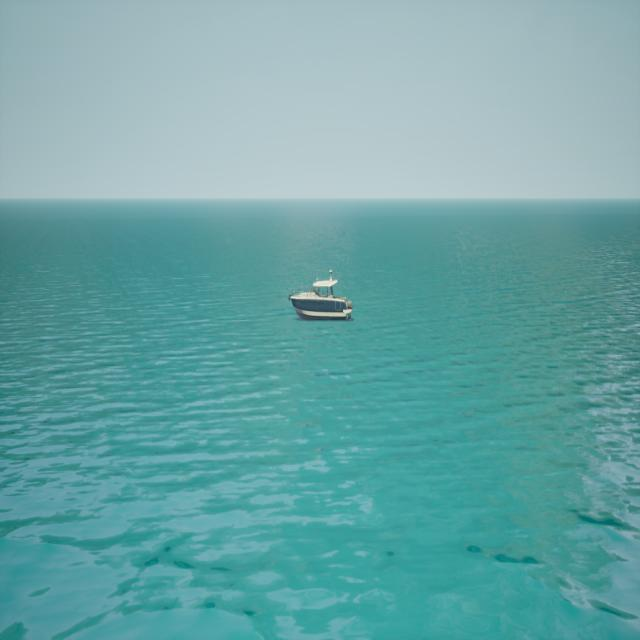ship: (287, 268, 353, 319)
